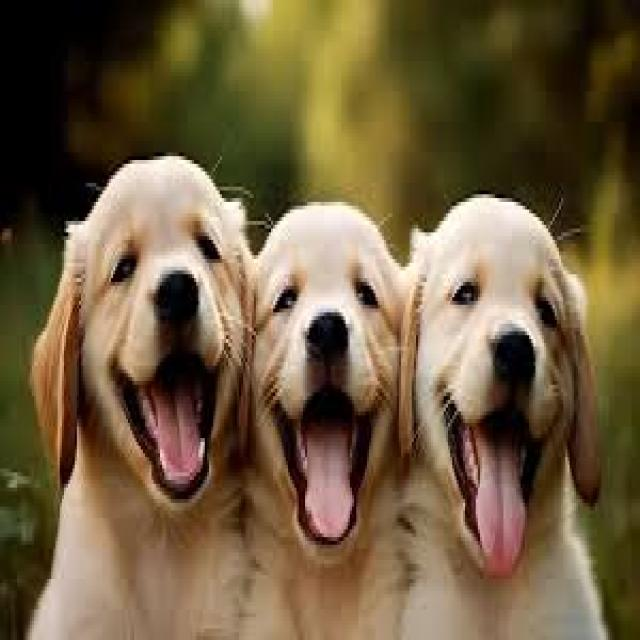dogs: (398, 142, 614, 590), (26, 136, 258, 526), (254, 144, 407, 557)
